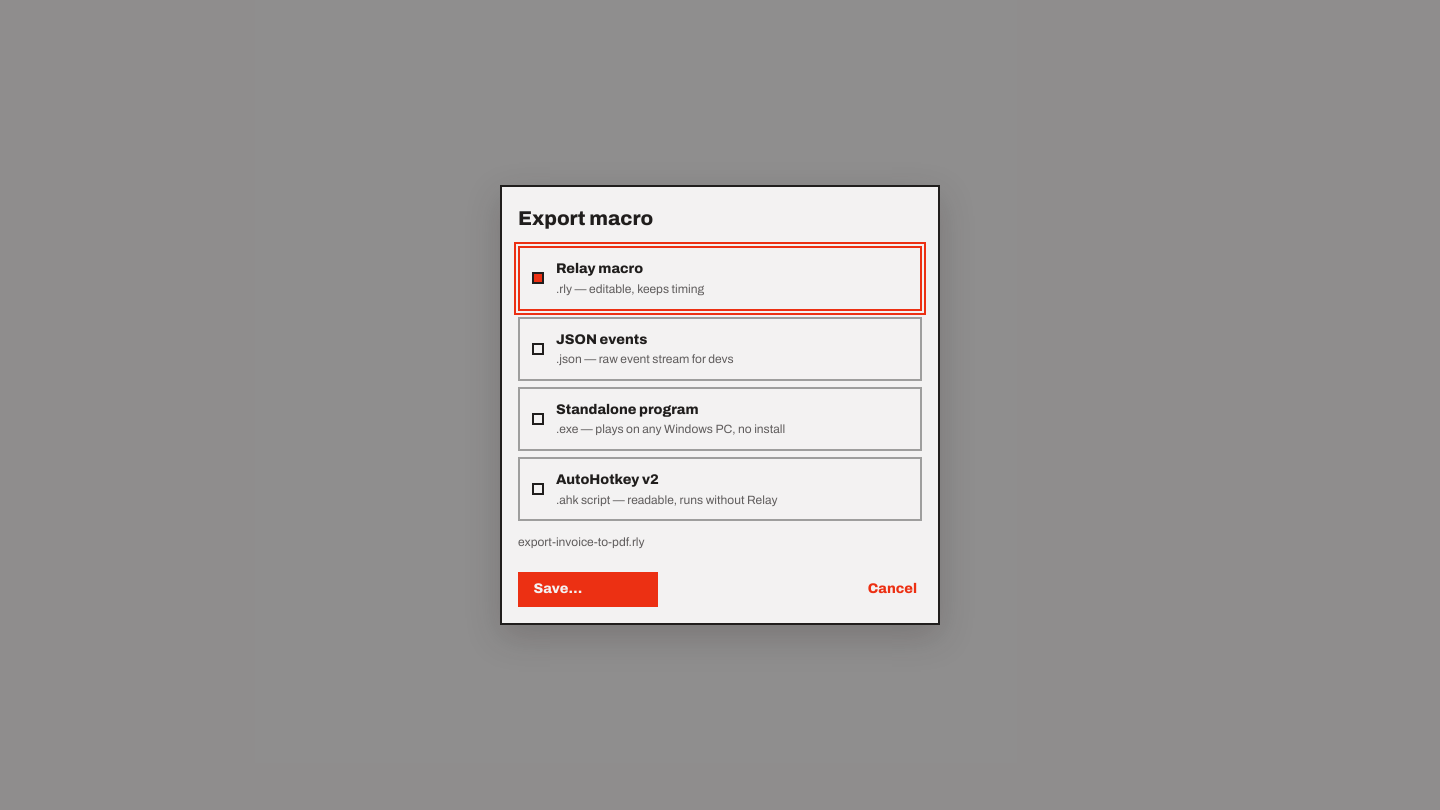
it: Export dialog › choosing JSON changes the file name
Step 1. Click the text "JSON events" → (602, 339), box [556,332,647,346]
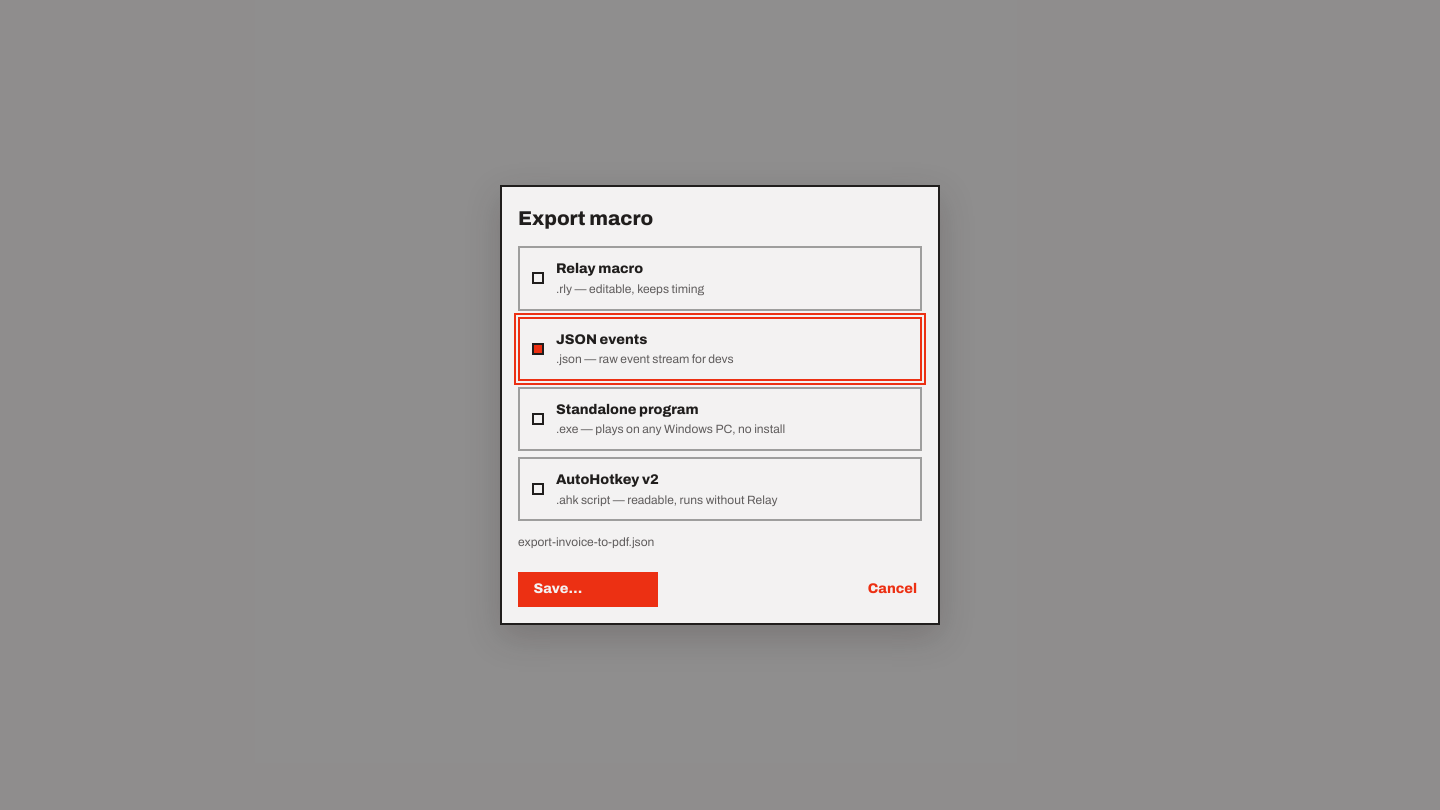
Now the text "export-invoice-to-pdf.json" is shown, box [518,535,654,549]
